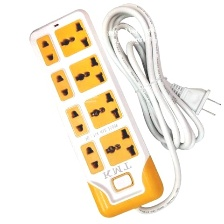three_eye_plug: (27, 7, 165, 218)
